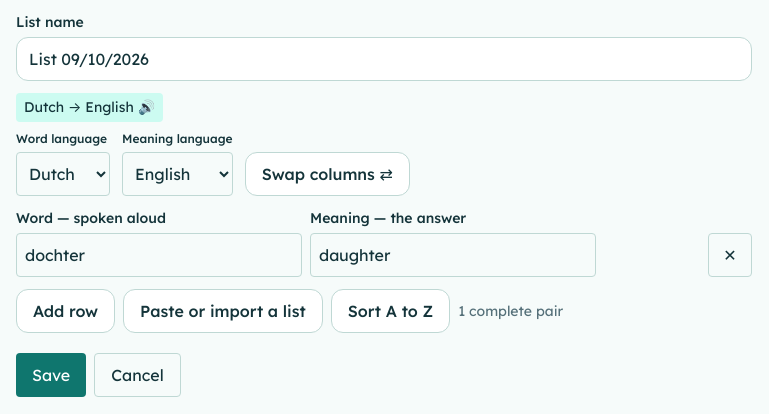
Test: column order › still swaps contents and languages together
Click the button "Swap columns ⇄".
click(327, 174)  # box [245, 152, 410, 196]
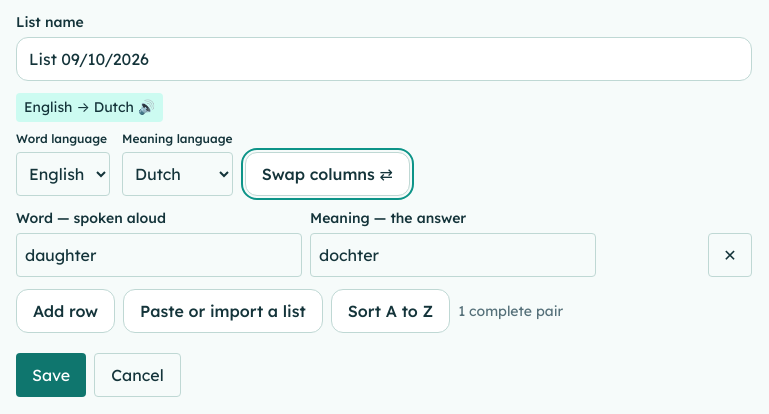
Check: the field named "Row 1 word" holds "daughter", box [16, 233, 302, 277]
Check: the dropdown labelled "Word language" shows "English", box [16, 152, 110, 196]
Check: the dropdown labelled "Meaning language" shows "Dutch", box [122, 152, 233, 196]
